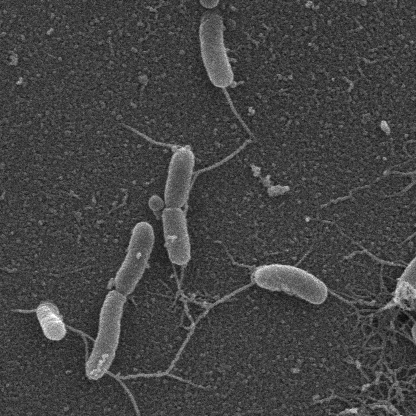cell2cell: (111, 283, 251, 380), (65, 325, 95, 347)
cell2surface: (220, 86, 261, 147), (109, 372, 206, 389), (348, 247, 412, 272), (108, 375, 147, 416), (197, 144, 247, 175), (125, 126, 181, 153), (176, 264, 197, 330), (333, 295, 375, 322), (390, 165, 416, 192), (373, 298, 400, 323)
regular: (251, 262, 328, 305), (86, 295, 122, 381), (112, 222, 150, 297), (201, 14, 231, 90), (165, 147, 192, 209), (164, 212, 192, 264), (395, 253, 416, 308), (37, 303, 64, 342), (414, 323, 416, 416)
